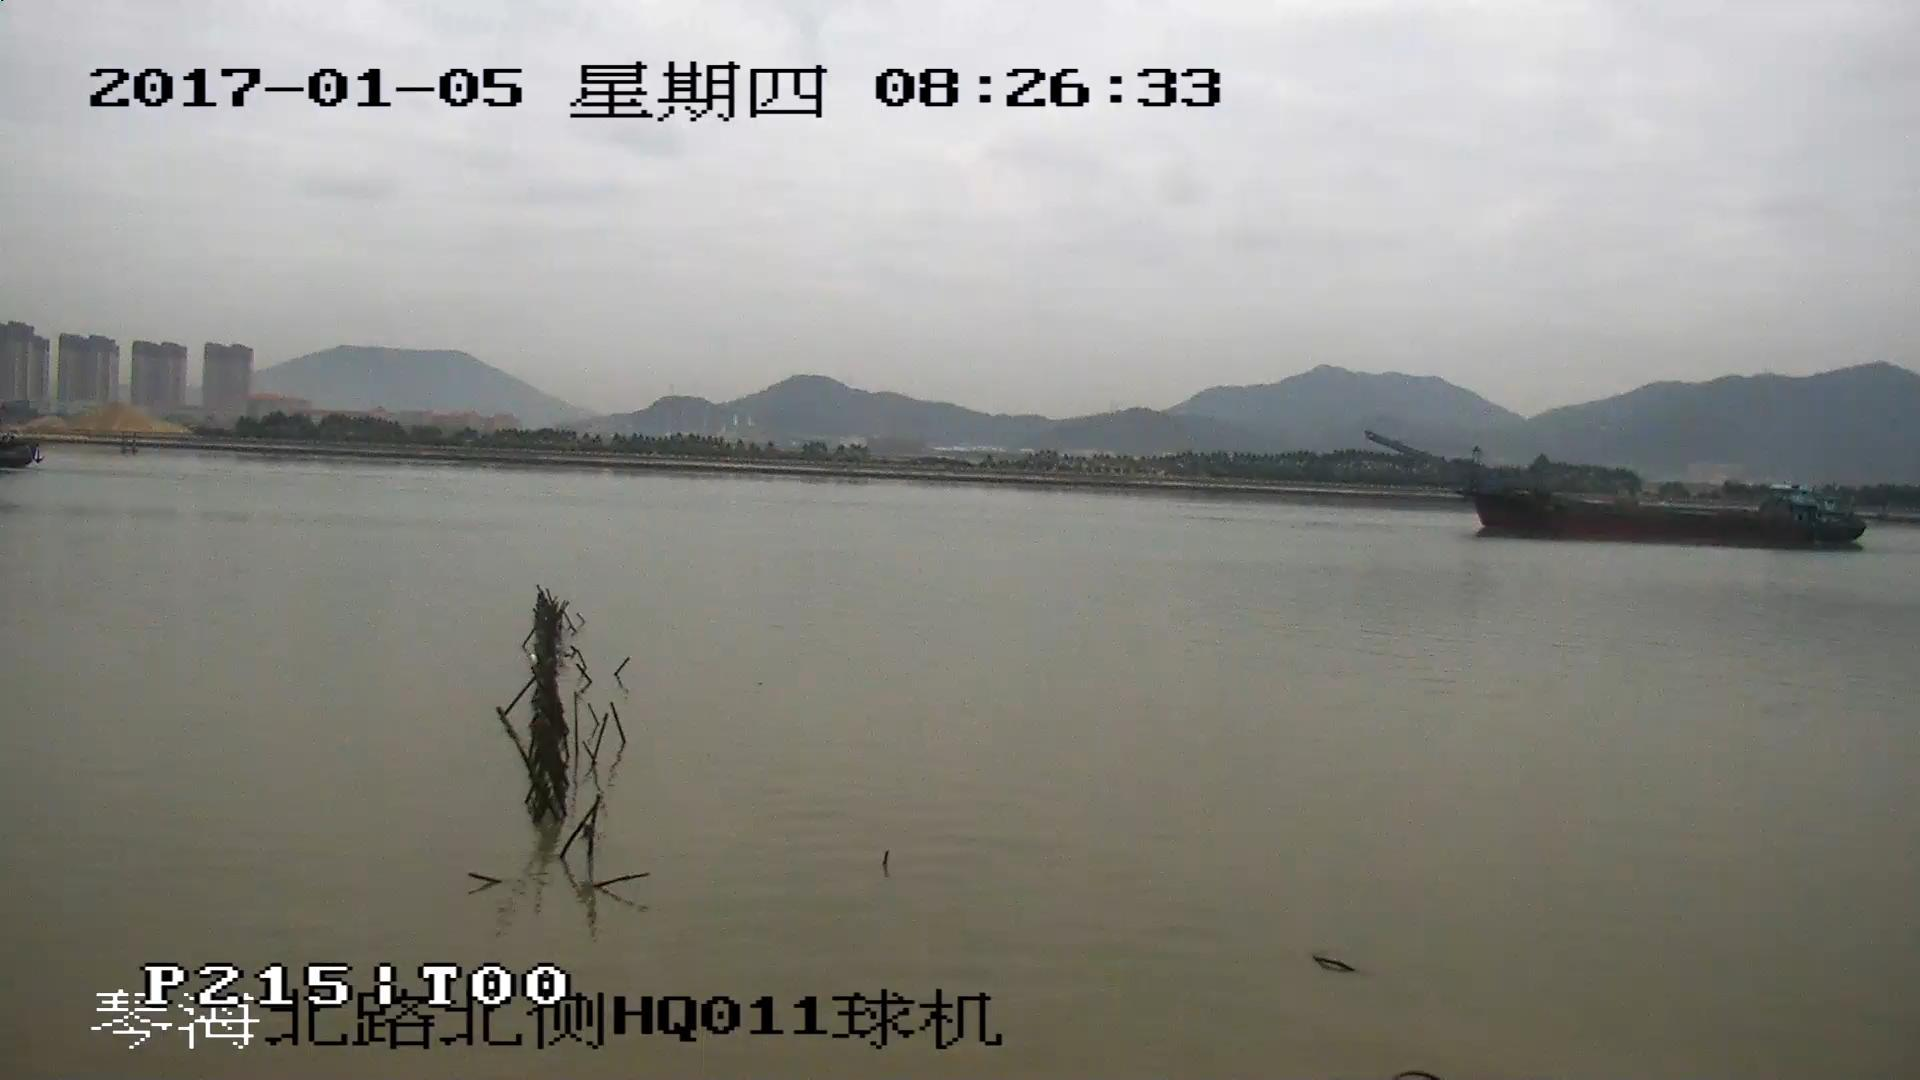Ship: (1367, 433, 1871, 543)
